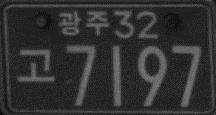1: (109, 42, 125, 108)
2: (136, 9, 159, 40)
3: (111, 9, 135, 38)
7: (64, 42, 96, 108), (170, 43, 202, 109)
9: (136, 44, 168, 108)
고: (16, 47, 55, 83)
광주_O: (58, 9, 109, 38)
